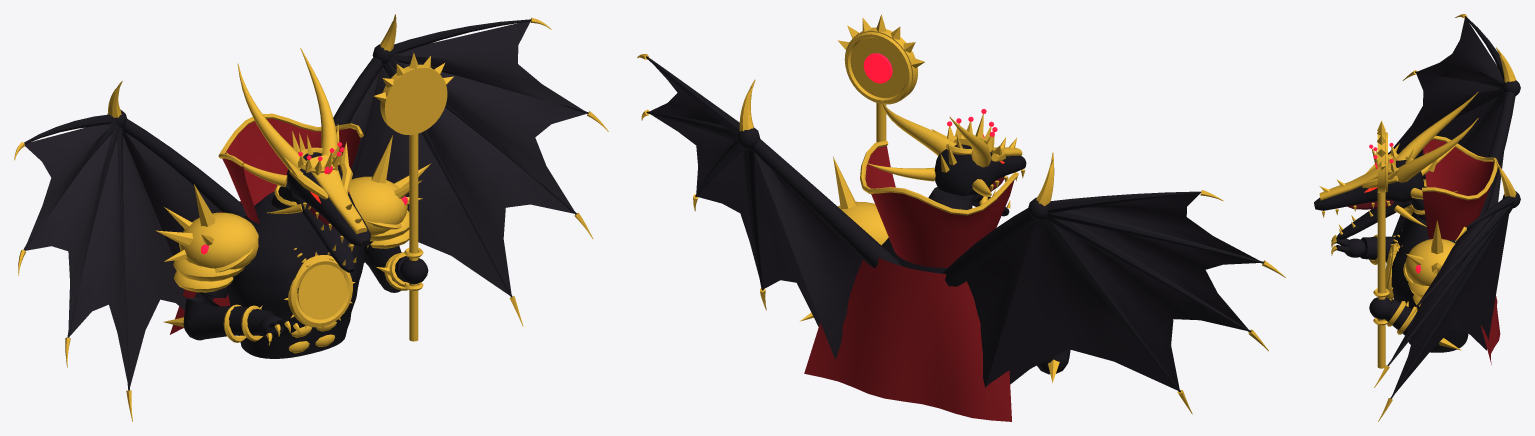
File: boss_dragon.glb
3 views of the same model, side by side, from view 1: azimuth 30°, elevation 25°; view 2: azimuth 150°, elevation 25°; view 3: azimuth 270°, elevation 25° (orthographic). The views are drawn at different scales.
Visible parts, largest first — view 1: BossDragon; view 2: BossDragon; view 3: BossDragon.
Boxes of the visible parts, bbox=[...] form: BossDragon: bbox=[14, 14, 608, 421]; BossDragon: bbox=[637, 14, 1285, 421]; BossDragon: bbox=[1314, 14, 1520, 421].
Size of the model in its own units: 3.76 by 1.82 by 1.34.
